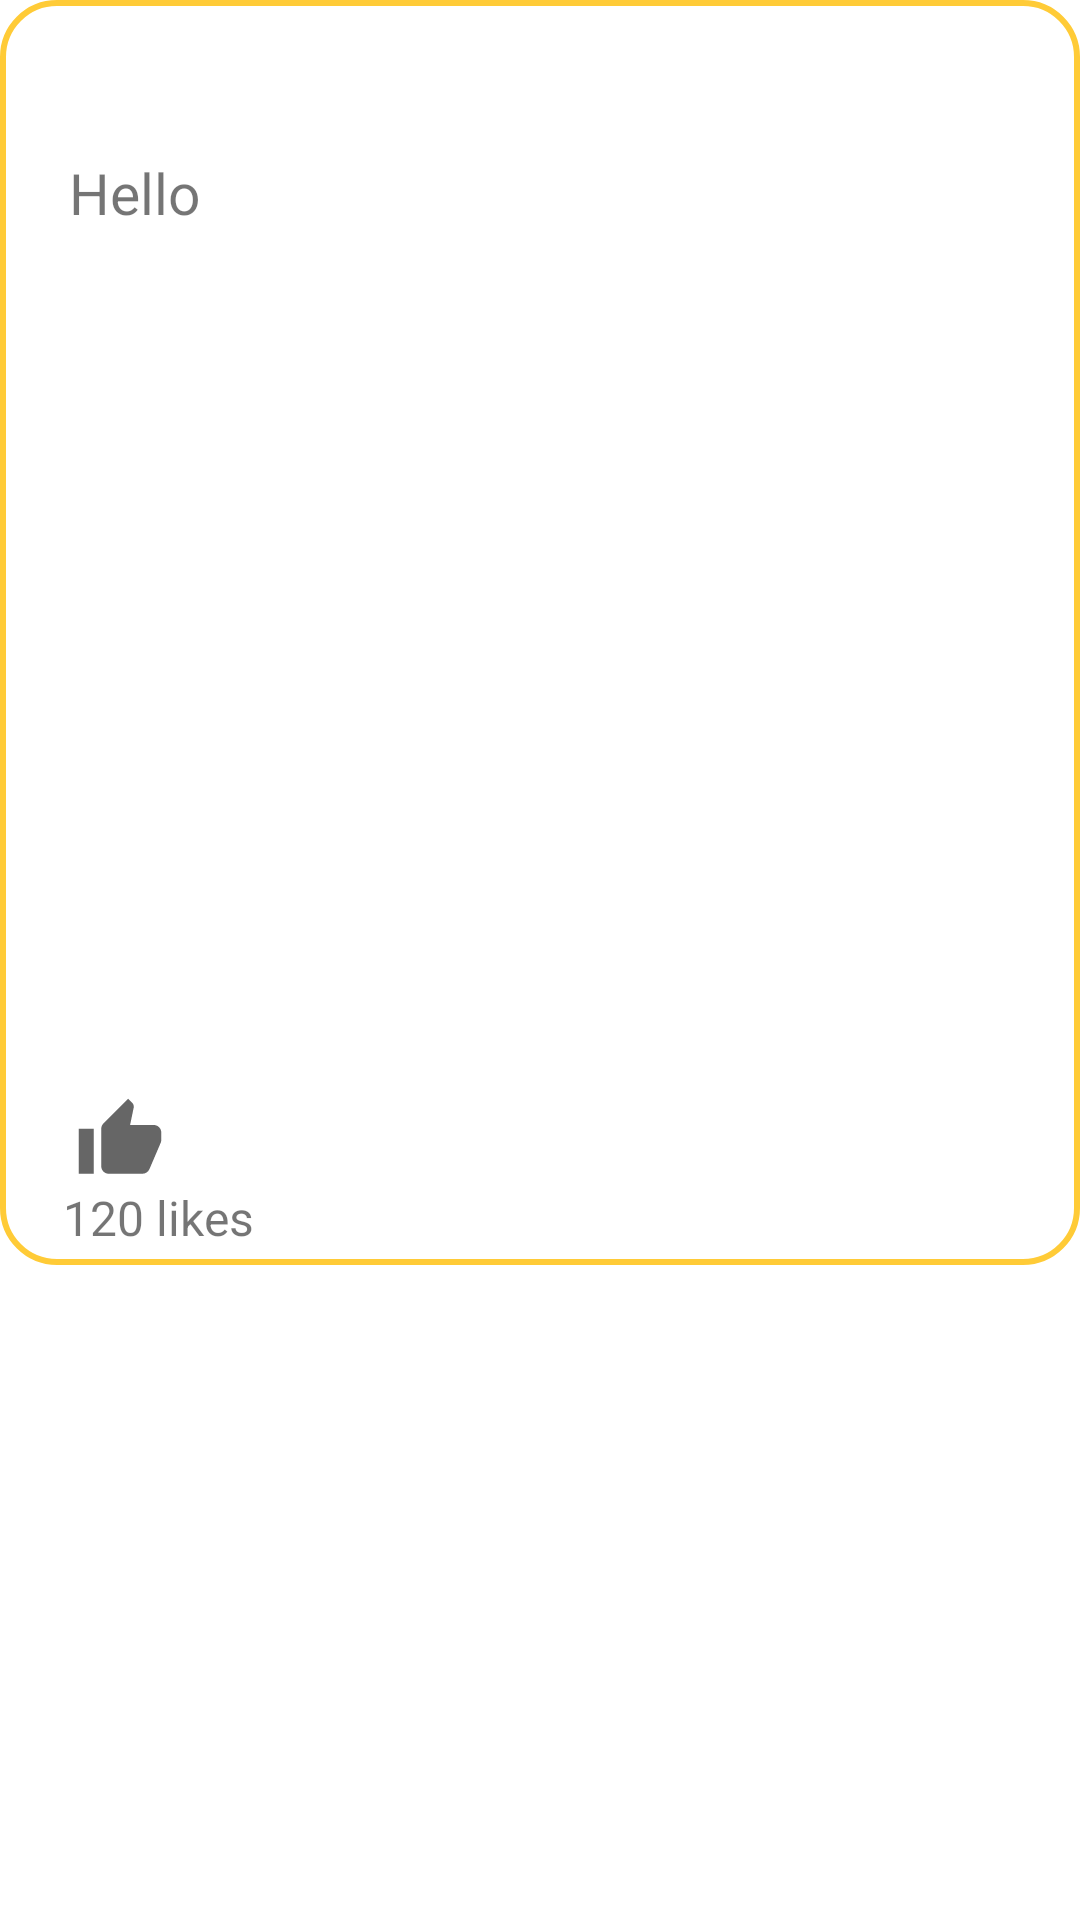

Icons on this 1080x1920 Android screen, each with the point to tap as point (x, y):
thumb up: point (120, 1136)
